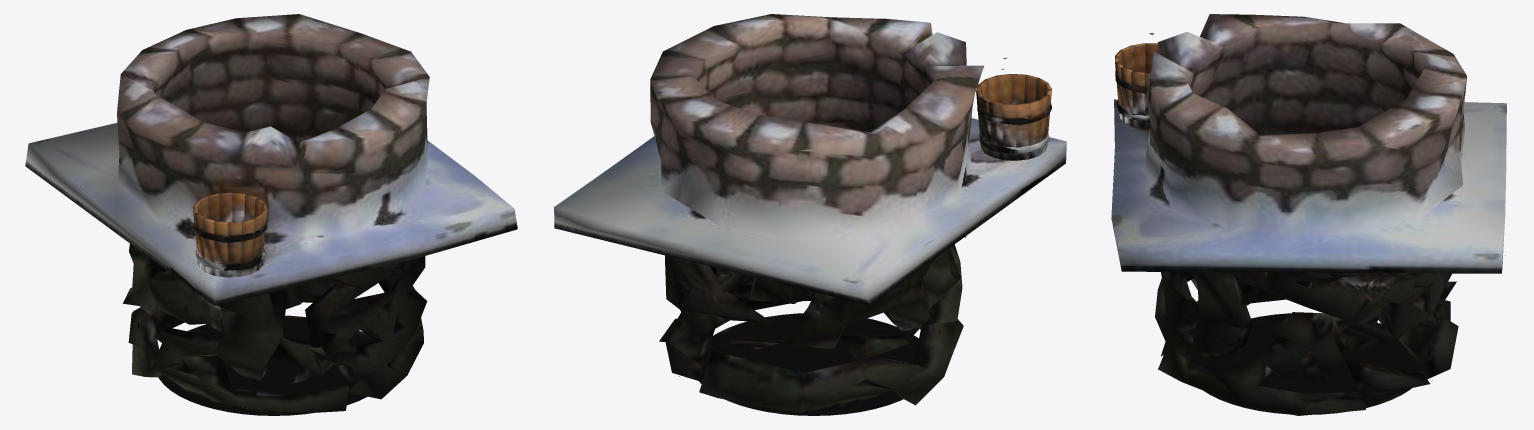
Rendered from well_snow_far.glb.
3 views of the same model, side by side, from view 1: azimuth 30°, elevation 25°; view 2: azimuth 150°, elevation 25°; view 3: azimuth 270°, elevation 25° (orthographic). The views are drawn at different scales.
Visible parts, largest first — view 1: well_snow_lod1; view 2: well_snow_lod1; view 3: well_snow_lod1.
Boxes of the visible parts, x1=… form: well_snow_lod1: x1=25, y1=14, x2=517, y2=415; well_snow_lod1: x1=554, y1=14, x2=1066, y2=415; well_snow_lod1: x1=1111, y1=14, x2=1506, y2=415.
Size of the model in its own units: 1.97 by 1.71 by 2.14.
1 material, 1 textured.
